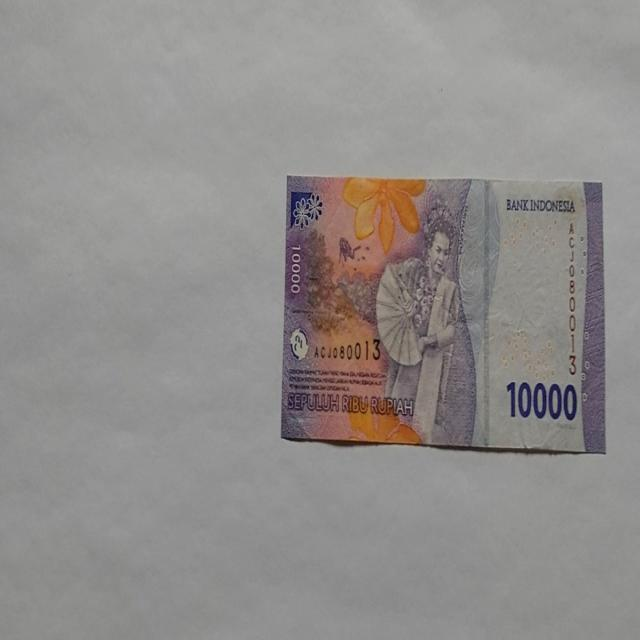sepuluh ribu rupiah: (280, 174, 606, 452), (374, 198, 478, 444)
